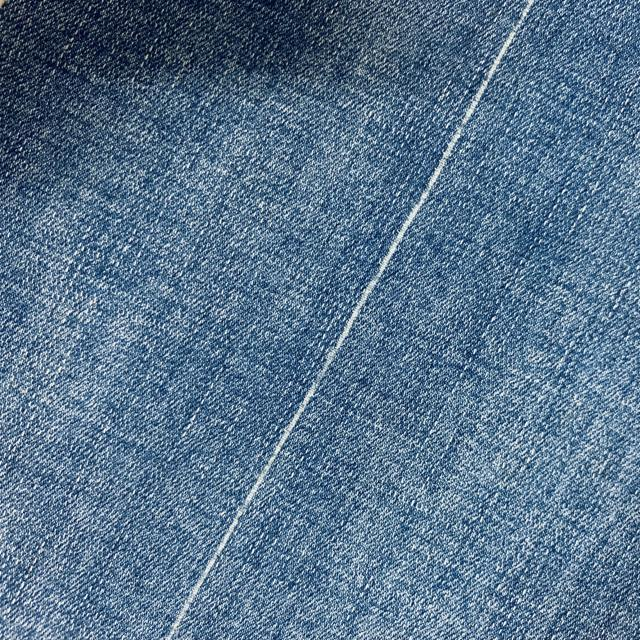Line: (163, 0, 536, 640)
